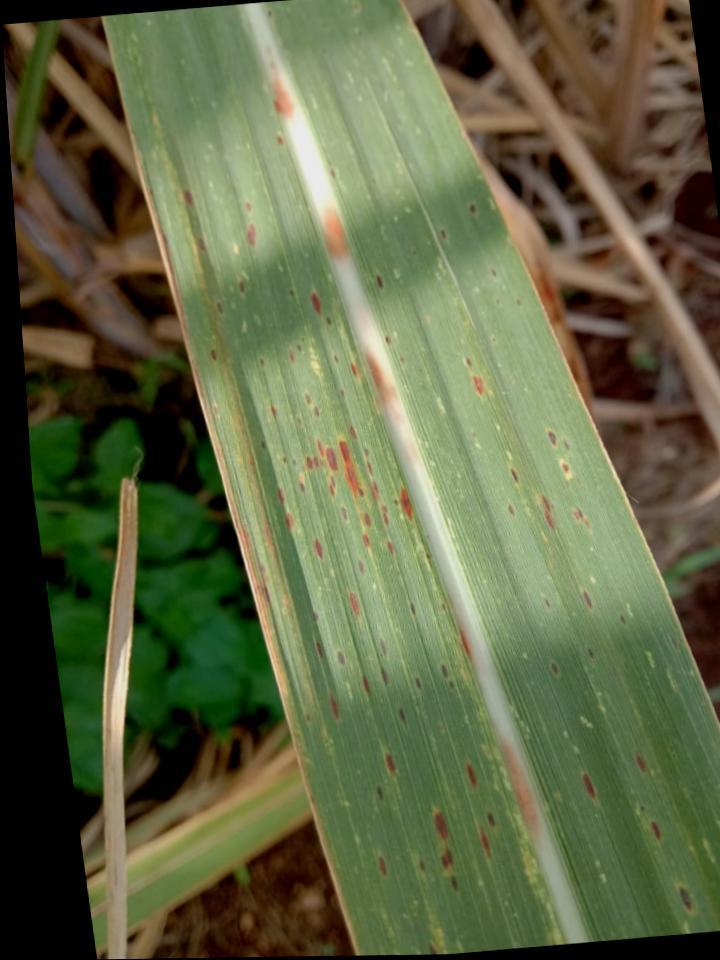RedRot: (498, 740, 540, 836), (364, 352, 396, 404), (324, 206, 350, 259), (270, 62, 294, 118), (459, 627, 472, 658)
Rust: (338, 440, 364, 500), (316, 438, 338, 472), (537, 494, 554, 529), (433, 808, 447, 841), (572, 506, 590, 530), (479, 825, 492, 858), (400, 488, 412, 521), (582, 772, 596, 800), (678, 885, 692, 912), (465, 761, 477, 789), (440, 848, 453, 870), (348, 592, 359, 617), (471, 374, 483, 396), (328, 695, 339, 719), (303, 456, 323, 469), (650, 821, 662, 841), (311, 291, 321, 315), (582, 589, 593, 610), (384, 752, 395, 773), (634, 753, 645, 773), (313, 539, 323, 560), (246, 223, 255, 245), (378, 856, 387, 877), (547, 429, 557, 447), (450, 875, 459, 894), (284, 512, 293, 530), (183, 189, 193, 205), (380, 667, 389, 684), (398, 707, 406, 726), (328, 475, 335, 496), (487, 811, 495, 829), (362, 678, 371, 694), (276, 488, 285, 504), (440, 663, 449, 679), (381, 504, 388, 524), (510, 467, 518, 484), (418, 858, 426, 875), (363, 513, 372, 528), (372, 482, 379, 501), (315, 641, 322, 659), (428, 943, 439, 954), (550, 661, 558, 676), (375, 274, 383, 289), (362, 532, 370, 547), (376, 785, 384, 800), (379, 639, 386, 655), (197, 237, 205, 251), (366, 461, 373, 476), (386, 540, 393, 555), (468, 202, 476, 215), (507, 503, 514, 517), (340, 506, 347, 520), (357, 559, 364, 573), (561, 462, 569, 474), (337, 651, 344, 664), (210, 348, 217, 361), (409, 602, 416, 615), (352, 362, 358, 377), (587, 647, 594, 659), (216, 302, 223, 314), (439, 229, 447, 239), (299, 475, 304, 491), (415, 676, 421, 689), (288, 349, 294, 362), (619, 615, 626, 626), (304, 394, 311, 405), (349, 426, 355, 438), (245, 201, 251, 212), (277, 134, 283, 145), (384, 335, 392, 343), (465, 356, 472, 365), (270, 406, 277, 415), (239, 281, 244, 293), (295, 416, 302, 424), (564, 439, 569, 450), (313, 610, 318, 621), (326, 315, 331, 326), (314, 406, 319, 417), (543, 598, 549, 607), (306, 712, 311, 722), (364, 447, 369, 457), (330, 168, 335, 178), (491, 268, 496, 277), (334, 354, 339, 363), (289, 289, 294, 298), (400, 354, 404, 363), (297, 343, 301, 352), (441, 602, 445, 611), (425, 553, 431, 559), (516, 298, 521, 305), (448, 680, 453, 687), (282, 455, 286, 463), (260, 359, 264, 366), (394, 499, 398, 506), (341, 389, 344, 398), (412, 250, 416, 255), (472, 431, 475, 437), (293, 459, 296, 465), (301, 337, 304, 341)
